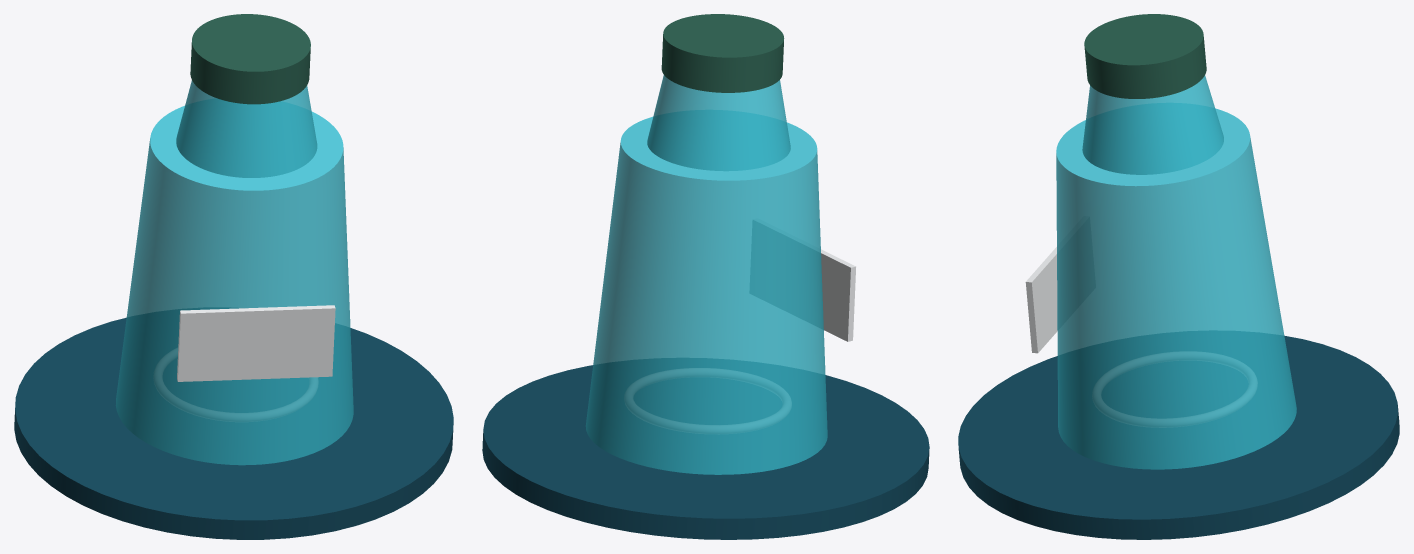
The model's file is Plastic.glb.
3 renders of one model, left to right at view 1: azimuth 30°, elevation 25°; view 2: azimuth 150°, elevation 25°; view 3: azimuth 270°, elevation 25°, orthographic.
Bounding box in the file's own units: 2.36 × 2.51 × 2.36.
